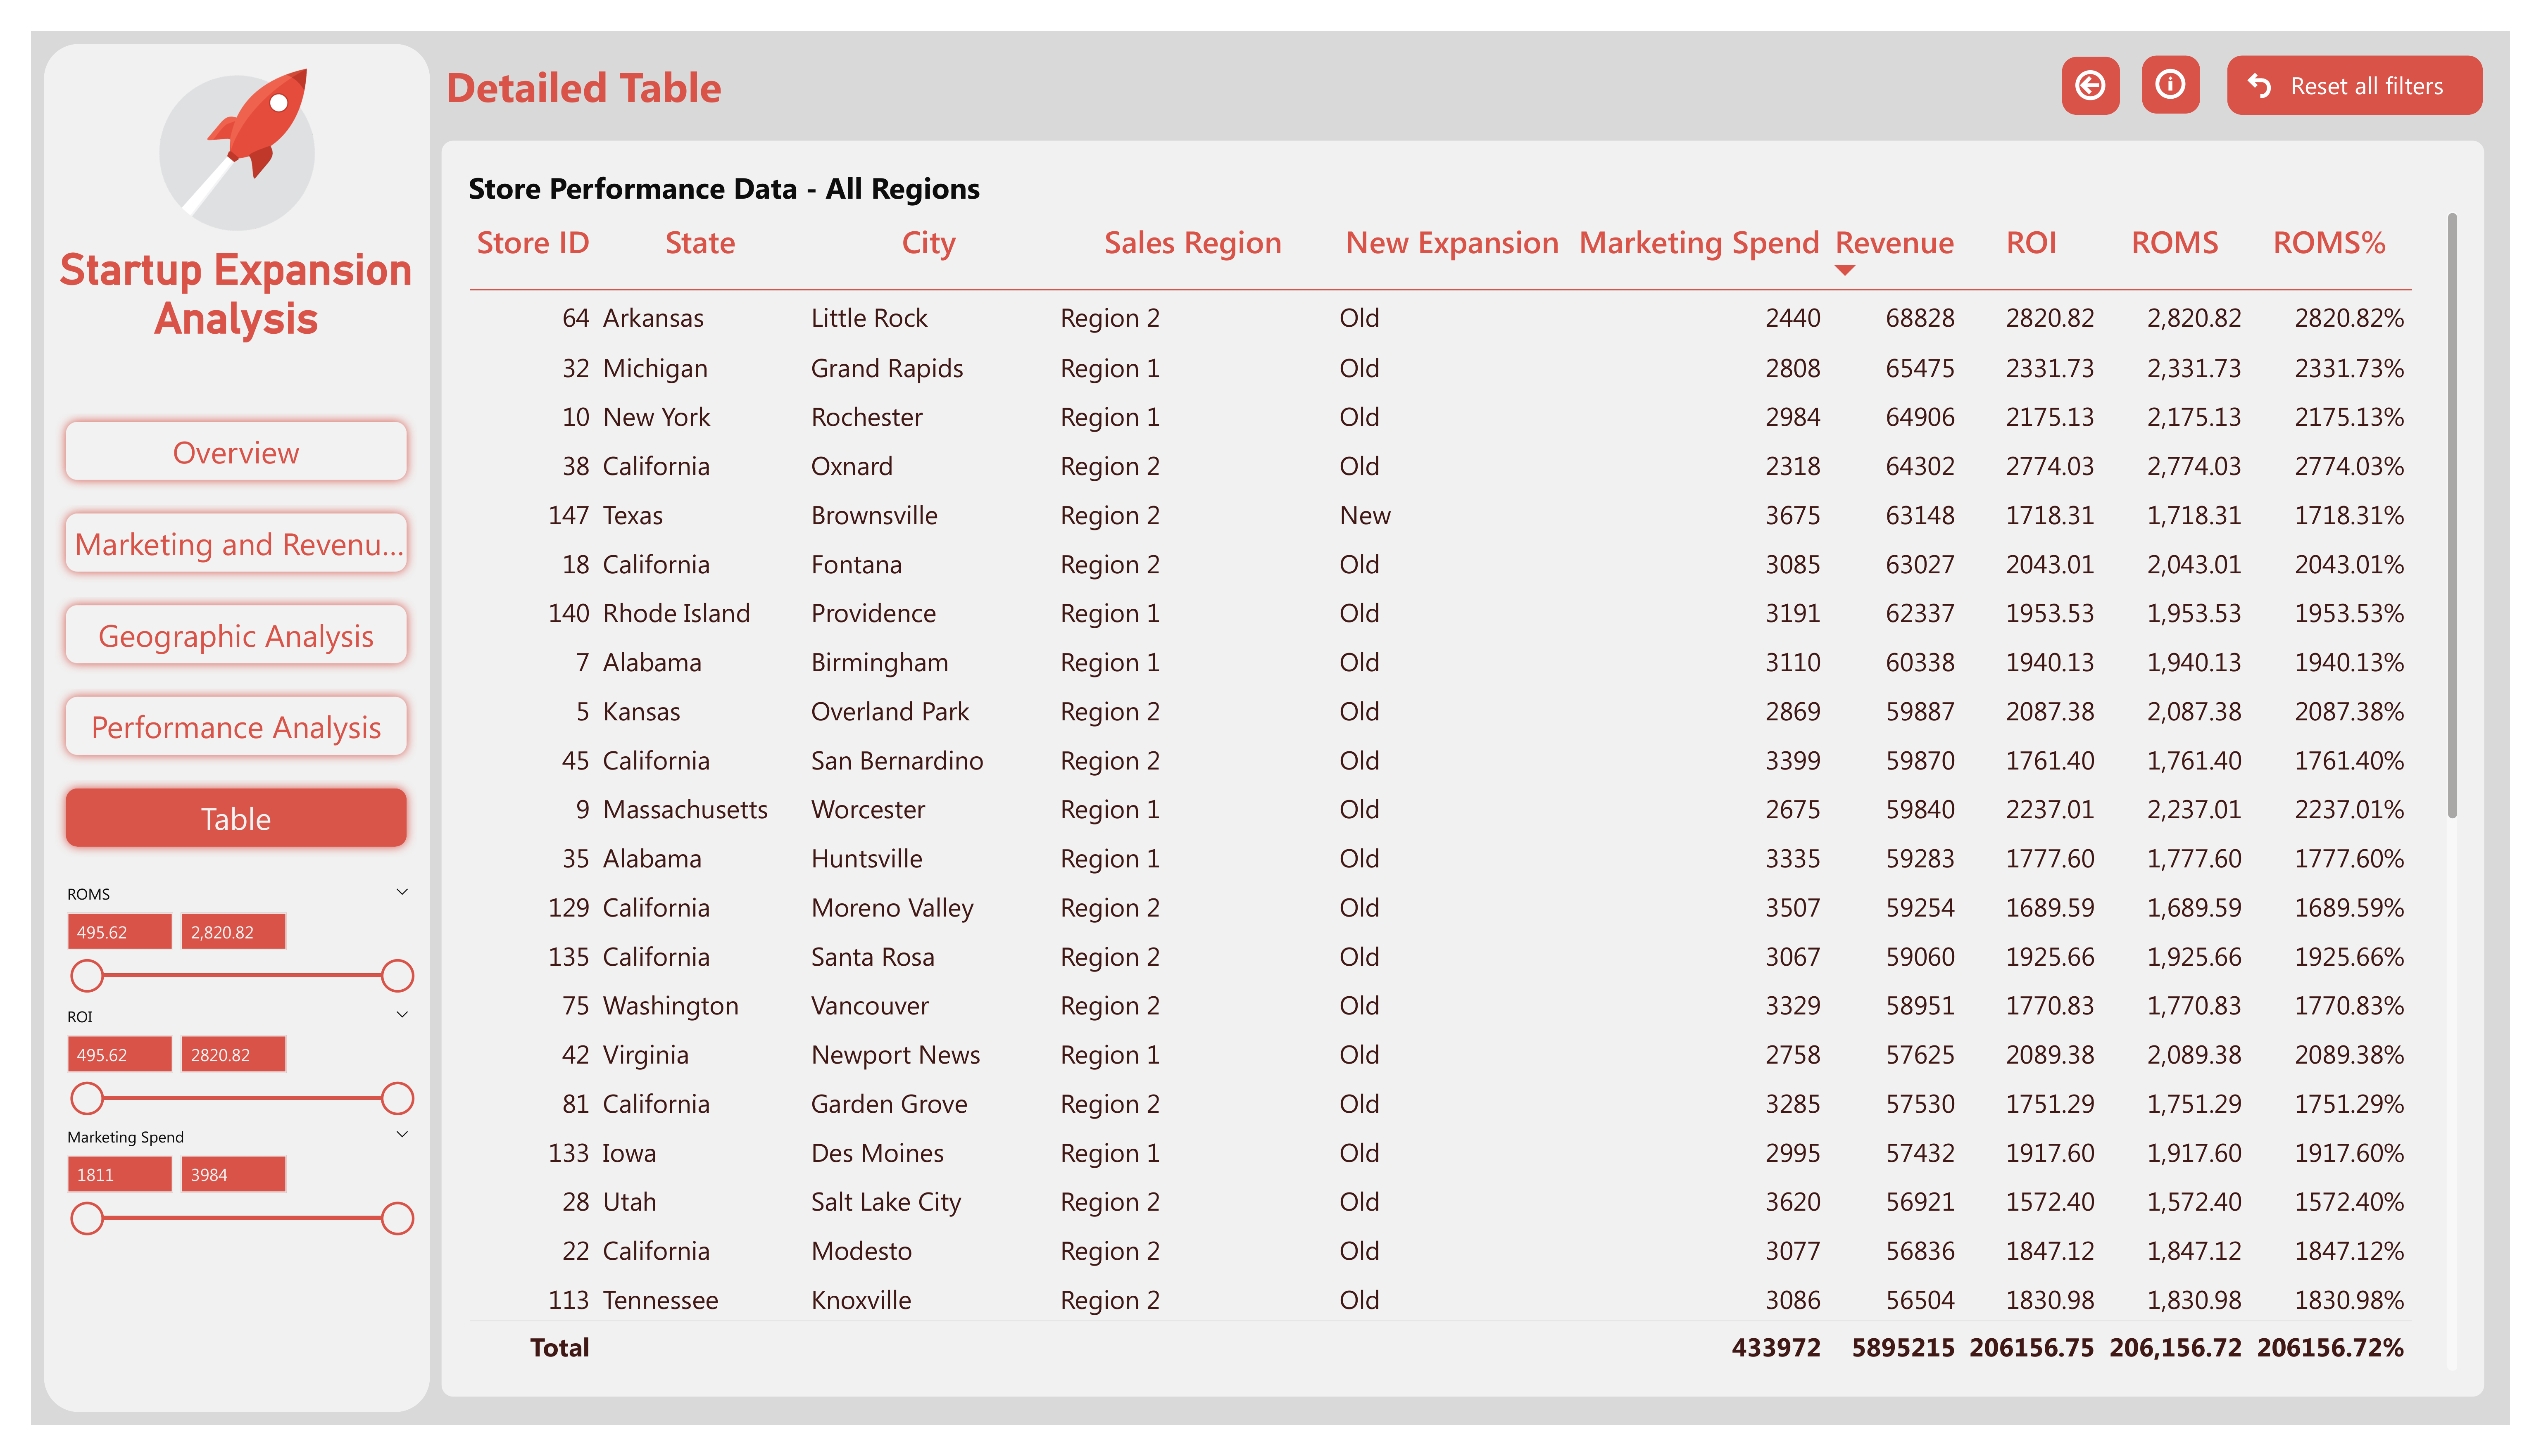

This screenshot's page, from the dashboard's own definition file:
{"tool":"powerbi","page":{"name":"Table","canvas":[1920,1080],"ordinal":4},"visuals":[{"type":"shape","box":[0,0,318.5,1079.6],"z":0},{"type":"image","box":[0,18.5,318.5,146.3],"z":1000},{"type":"actionButton","title":"reset button","box":[1701,19,198.1,46.3],"z":2000},{"type":"actionButton","title":"info button","box":[1635,19,45,45],"z":3000},{"type":"group","title":"Buttons Menu","box":[18.5,194.4,240,420.1],"z":4000},{"type":"pageNavigator","box":[9.3,285.2,300,364.8],"z":5000},{"type":"textbox","box":[9.3,164.8,300,87],"z":6000},{"type":"textbox","title":"Title","box":[320.9,19.7,618.1,65.2],"z":7000},{"type":"tableEx","fields":{"Values":["startups-expansion-modified.Store ID","startups-expansion-modified.State","startups-expansion-modified.City","startups-expansion-modified.Sales Region","startups-expansion-modified.New Expansion","Sum(startups-expansion-modified.Marketing Spend)","Sum(startups-expansion-modified.Revenue)","Sum(startups-expansion-modified.ROI)","Sum(startups-expansion-modified.ROMS)","Sum(startups-expansion-modified.ROMS%)"]},"box":[317.5,85,1582.5,972.5],"z":8000},{"type":"slicer","fields":{"Values":["startups-expansion-modified.ROMS"]},"box":[10,650,300,120],"z":9000},{"type":"slicer","fields":{"Values":["startups-expansion-modified.ROI"]},"box":[10,745,300,106.7],"z":10000},{"type":"slicer","fields":{"Values":["startups-expansion-modified.Marketing Spend"]},"box":[10,838.3,300,105],"z":11000},{"type":"advancedSlicerVisual","box":[100,100,300,300],"z":12000},{"type":"actionButton","title":"info button","box":[1572.5,20,45,45],"z":13000}]}

Visuals, with their boxes in screenshot pixels (x1, y1, x2, y2):
shape: crop(31, 31, 442, 1425)
image: crop(31, 55, 442, 244)
"reset button" actionButton: crop(2227, 55, 2483, 115)
"info button" actionButton: crop(2142, 55, 2200, 114)
"Buttons Menu" group: crop(55, 282, 365, 824)
pageNavigator: crop(43, 399, 431, 870)
textbox: crop(43, 244, 431, 356)
"Title" textbox: crop(445, 57, 1243, 140)
tableEx - startups-expansion-modified.Store ID x startups-expansion-modified.State: crop(441, 141, 2484, 1396)
slicer - startups-expansion-modified.ROMS: crop(44, 870, 431, 1025)
slicer - startups-expansion-modified.ROI: crop(44, 993, 431, 1131)
slicer - startups-expansion-modified.Marketing Spend: crop(44, 1113, 431, 1249)
advancedSlicerVisual: crop(160, 160, 547, 547)
"info button" actionButton: crop(2061, 57, 2120, 115)
